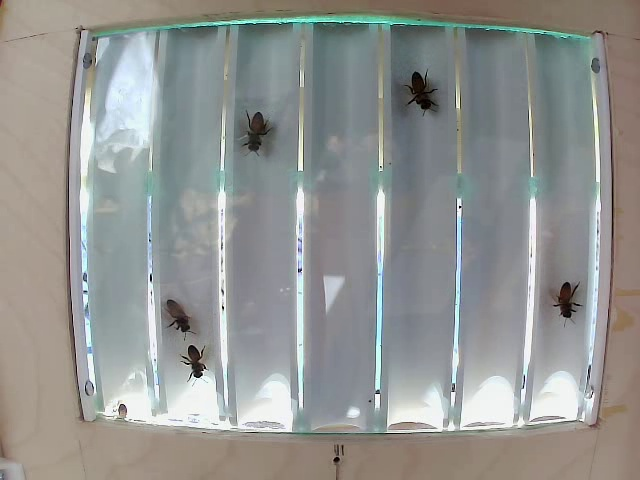bee: (547, 266, 587, 321), (161, 289, 204, 335), (172, 336, 214, 381), (233, 102, 272, 150), (403, 63, 437, 108)
